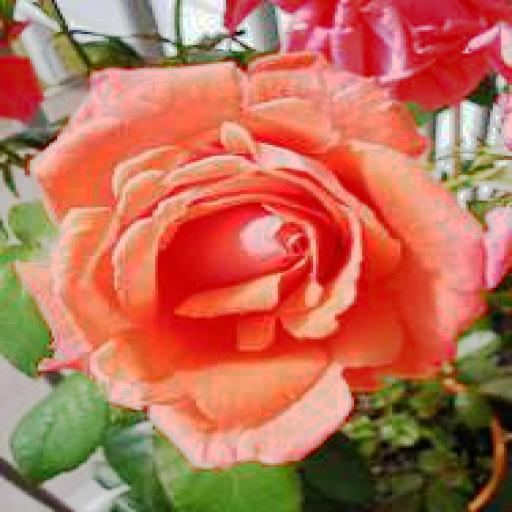rose: (8, 56, 482, 458)
